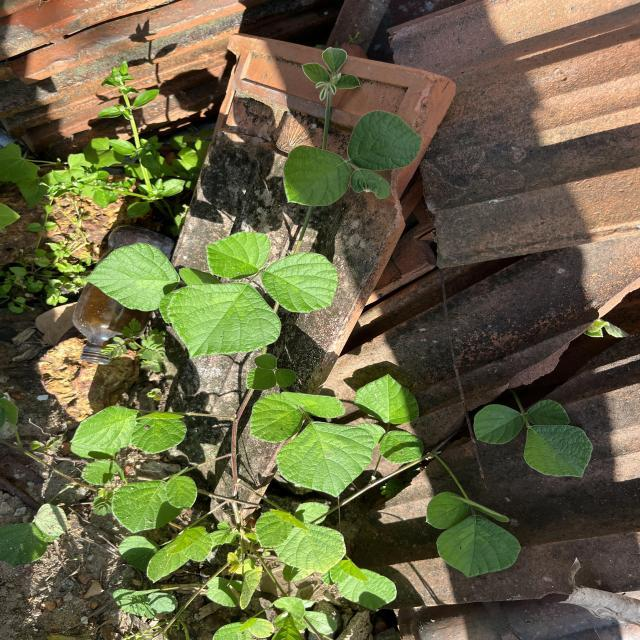Pseudarthria viscida: (157, 230, 339, 360), (282, 108, 426, 208), (247, 389, 375, 499), (471, 397, 595, 480), (424, 490, 524, 580)
